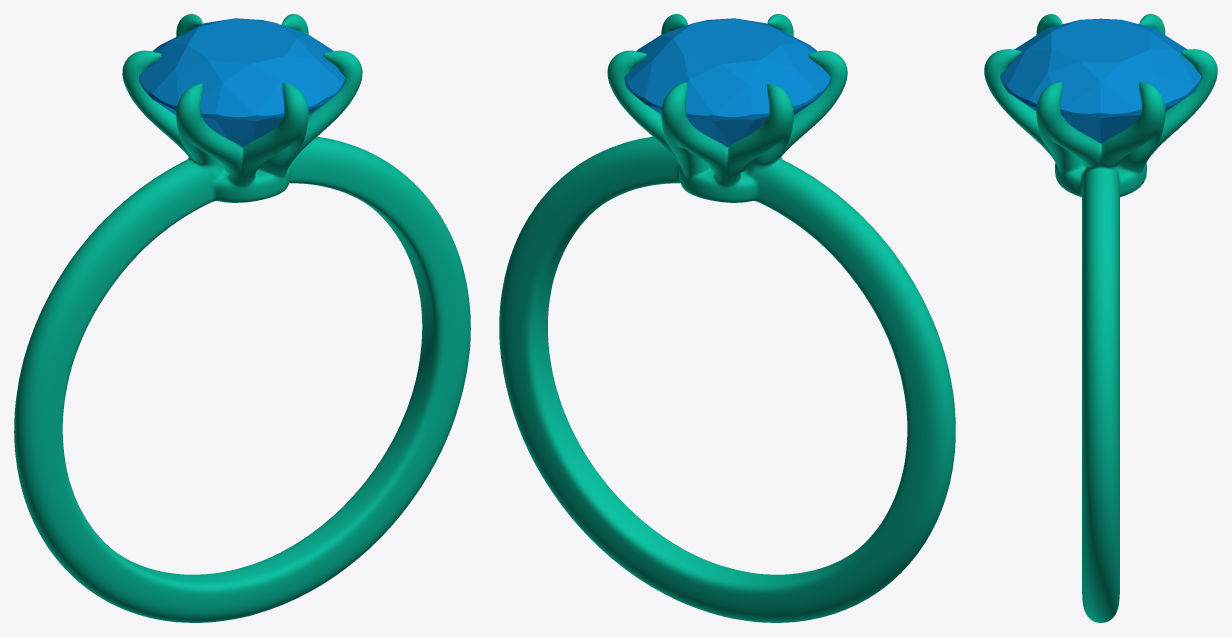
Rendered from BE16999_RD_200ct_RENDER.glb.
3 views of the same model, side by side, from view 1: azimuth 30°, elevation 25°; view 2: azimuth 150°, elevation 25°; view 3: azimuth 270°, elevation 25° (orthographic). The views are drawn at different scales.
Parts seen in each view (by area): view 1: Metal 01, CS_Diamond_Round; view 2: Metal 01, CS_Diamond_Round; view 3: Metal 01, CS_Diamond_Round.
Boxes of the visible parts, x1,y1,x2,y2 form: Metal 01: (14, 14, 470, 622); CS_Diamond_Round: (139, 18, 345, 147); Metal 01: (499, 14, 955, 622); CS_Diamond_Round: (624, 18, 830, 147); Metal 01: (984, 14, 1217, 622); CS_Diamond_Round: (1000, 18, 1201, 143).
Size of the model in its own units: 20.08 by 24.38 by 9.24.
